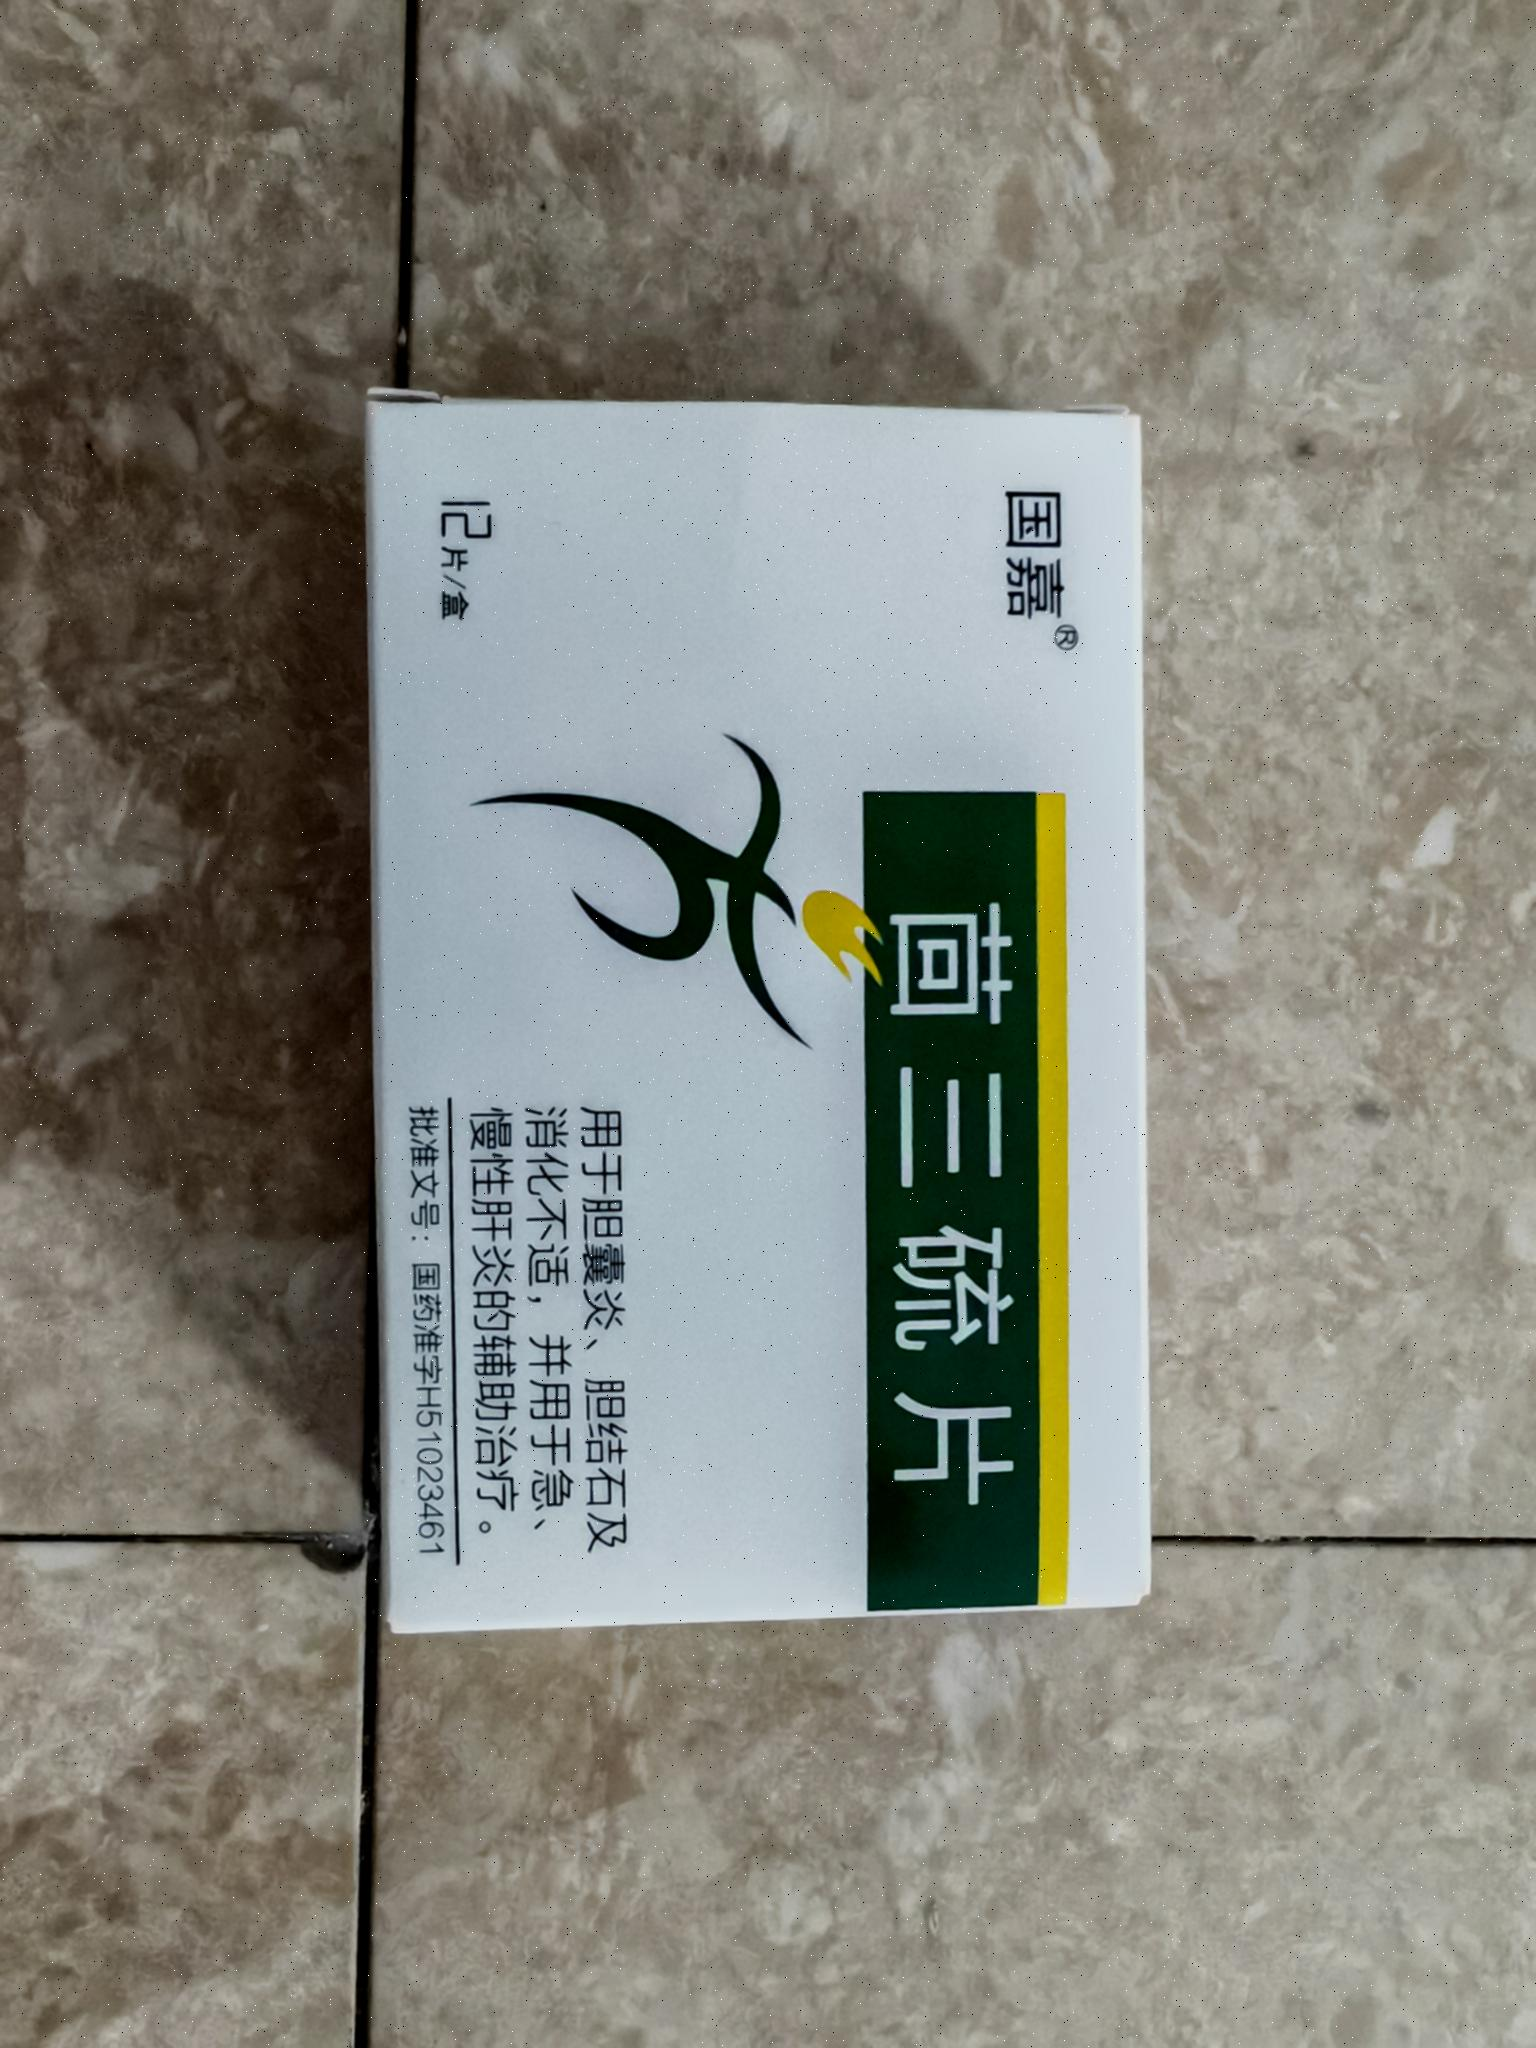Medicine4: (342, 363, 1170, 1653)
